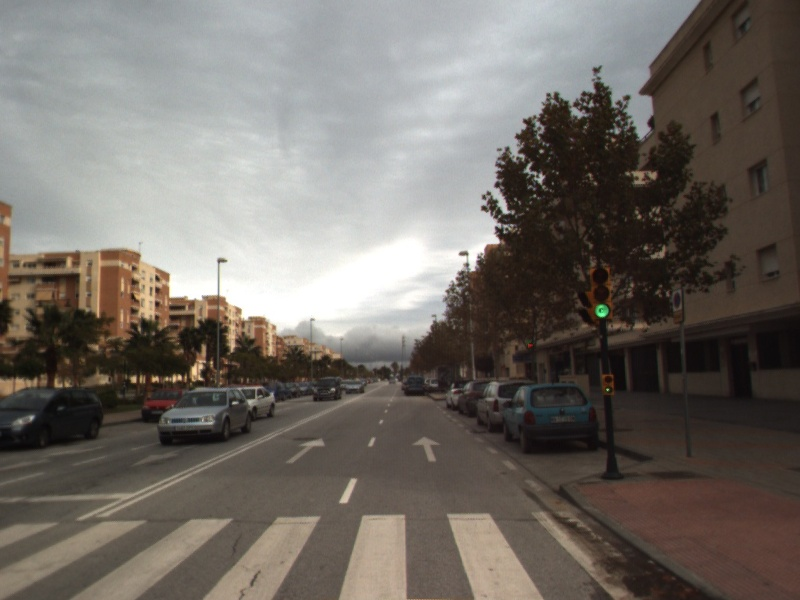STRAIGHT: (283, 435, 327, 465), (410, 434, 443, 464)
